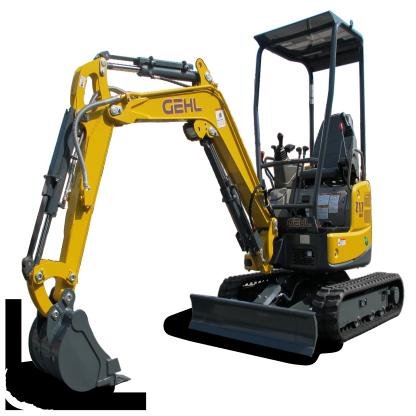excavator: (30, 12, 413, 391)
